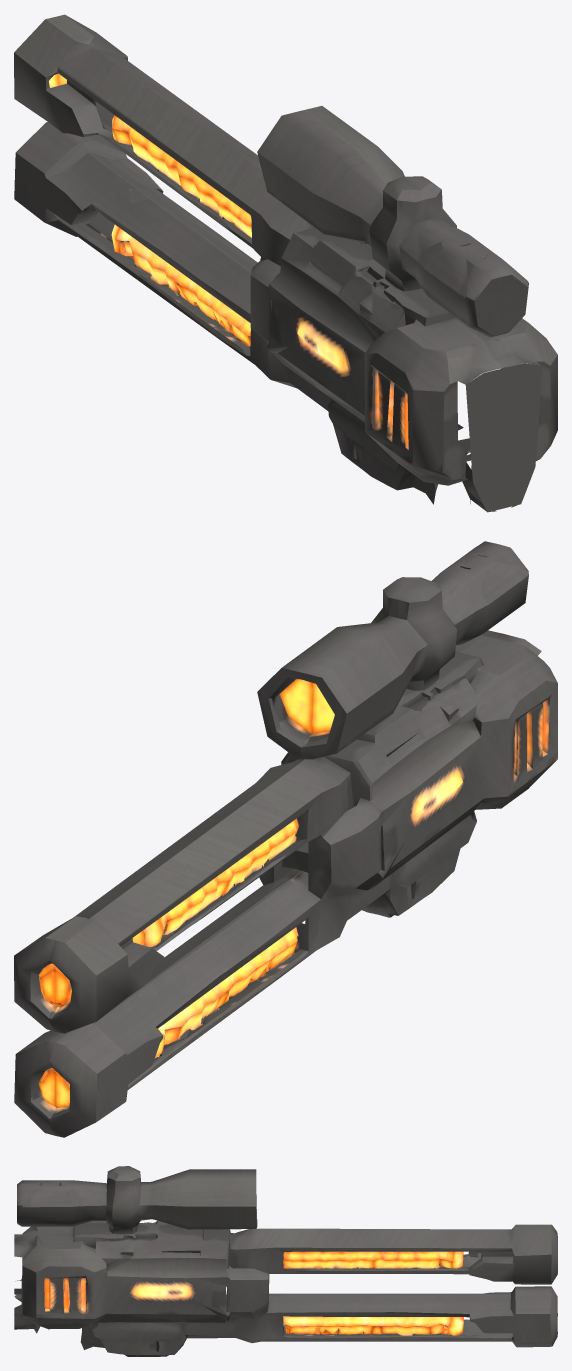
Rendered from rail_rifle.glb.
The picture shows the model from 3 angles, top to bottom: view 1: azimuth 30°, elevation 25°; view 2: azimuth 150°, elevation 25°; view 3: azimuth 270°, elevation 25°; orthographic projection. The views are drawn at different scales.
Parts seen in each view (by area): view 1: rail_rifle_world; view 2: rail_rifle_world; view 3: rail_rifle_world.
Part boxes in pixels (x1,y1,x2,y2): rail_rifle_world: (14,14,557,512); rail_rifle_world: (14,541,557,1137); rail_rifle_world: (14,1166,557,1356).
Size of the model in its own units: 0.1623 by 0.3279 by 0.8808.
1 material, 1 textured.
